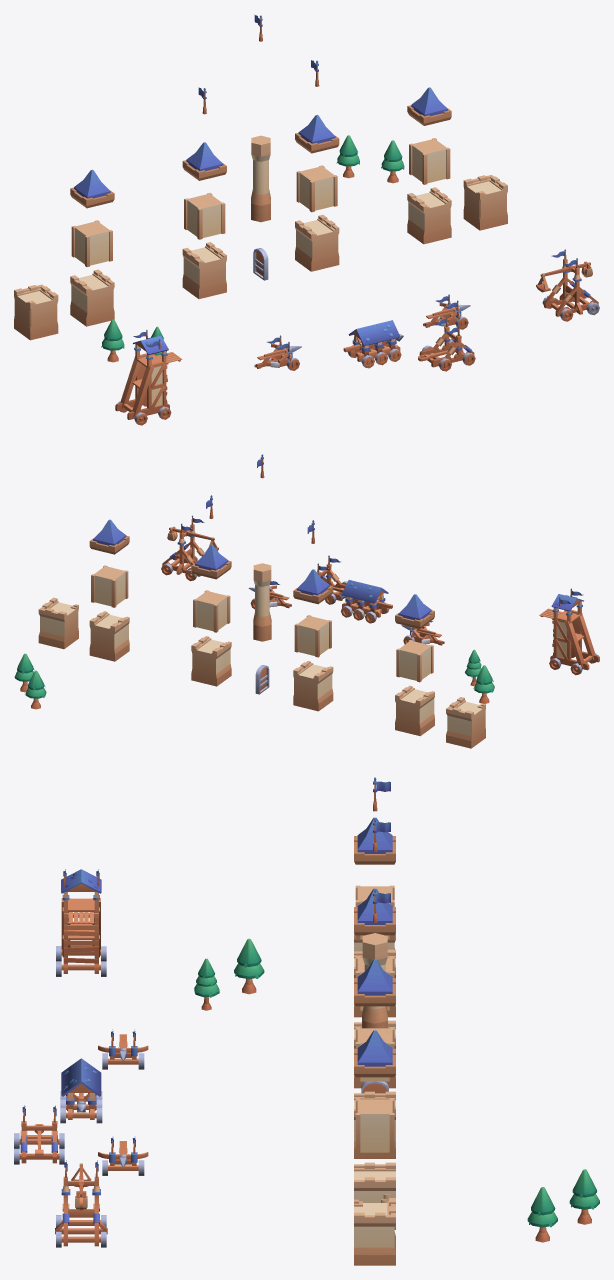
File: animation.glb
The picture shows the model from 3 angles, top to bottom: view 1: azimuth 30°, elevation 25°; view 2: azimuth 150°, elevation 25°; view 3: azimuth 270°, elevation 25°; orthographic projection. The views are drawn at different scales.
Visible parts, largest first — view 1: Siege_Tower, wall-corner, wall-corner.001, wall.003, wall, wall.002, wall.001, tower-square-mid.002, tower-square-mid.001, tower-square-mid, tower-square-mid.003, tower-hexagon-base (+12 smaller); view 2: Siege_Tower, wall-corner.001, wall.003, wall.001, wall-corner, wall, wall.002, tower-hexagon-base, tower-square-mid.002, tower-square-mid.003, tower-square-mid, tower-square-mid.001 (+10 smaller); view 3: Siege_Tower, wall-corner.001, tower-square-mid.003, Trebuchet, Siege_Ram, wall.003, tower-square-top-roof.003, tower-square-top-roof.002, tower-square-top-roof, tower-hexagon-base, tower-square-top-roof.001, Catapult (+8 smaller).
Part boxes in pixels (x1,y1,x2,y2): Siege_Tower: (115, 330, 182, 419); wall-corner: (14, 284, 58, 340); wall-corner.001: (463, 175, 507, 230); wall.003: (407, 187, 451, 244); wall: (70, 269, 114, 326); wall.002: (295, 214, 339, 271); wall.001: (182, 242, 226, 298); tower-square-mid.002: (296, 165, 337, 212); tower-square-mid.001: (184, 193, 225, 239); tower-square-mid: (71, 220, 112, 266); tower-square-mid.003: (409, 138, 450, 184); tower-hexagon-base: (251, 135, 270, 222); Siege_Tower: (539, 588, 599, 670); wall-corner.001: (38, 597, 78, 649); wall.003: (89, 611, 129, 661); wall.001: (293, 661, 333, 711); wall-corner: (446, 697, 485, 748); wall: (395, 685, 434, 736); wall.002: (191, 636, 231, 686); tower-hexagon-base: (253, 563, 271, 641); tower-square-mid.002: (193, 590, 230, 632); tower-square-mid.003: (91, 565, 128, 607); tower-square-mid: (396, 640, 433, 682); tower-square-mid.001: (294, 615, 331, 657); Siege_Tower: (61, 869, 101, 973); wall-corner.001: (354, 1198, 395, 1265); tower-square-mid.003: (355, 1098, 394, 1153); Trebuchet: (55, 1160, 107, 1246); Siege_Ram: (61, 1058, 101, 1119); wall.003: (354, 1162, 395, 1229); tower-square-top-roof.003: (354, 1030, 395, 1077); tower-square-top-roof.002: (354, 959, 395, 1006); tower-square-top-roof: (354, 817, 395, 864); tower-hexagon-base: (362, 933, 387, 1028); tower-square-top-roof.001: (354, 888, 395, 935); Catapult: (19, 1105, 59, 1163).
Size of what is drawn, in the model's own units: 17.48 by 9.01 by 13.96.
35 materials, 35 textured.
